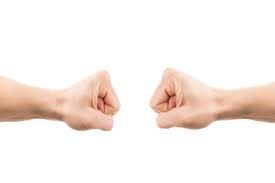fist: (148, 67, 213, 131), (64, 67, 118, 140)
